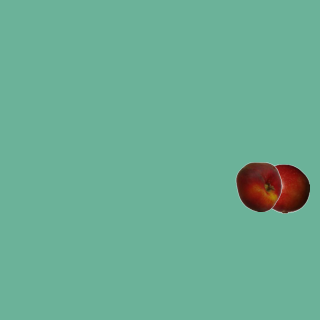Apple Braeburn: (259, 163, 309, 213)
Nectarine Flat: (233, 161, 283, 211)
